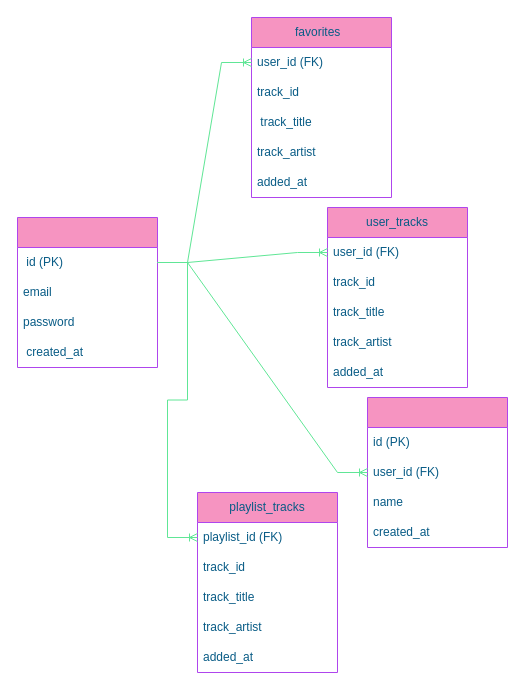
This 525x690 diagram has some shape labels left out. The shapes that lost their labels are listed below. From the top down, each one's box as (x1, y1, x2, y2) in pixels, then its label:
(16, 216, 158, 368): users
(366, 396, 508, 548): playlists
